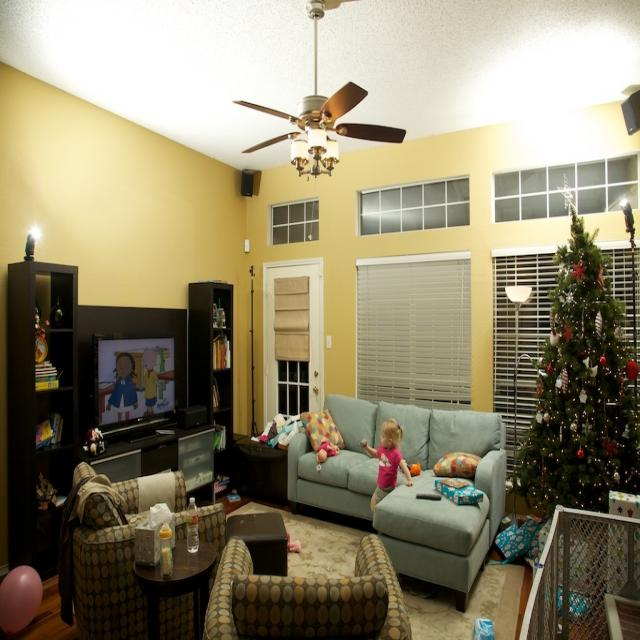Bulb: (233, 0, 408, 180)
